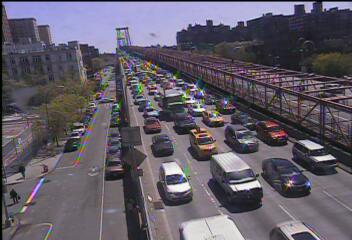neg: (186, 58, 229, 115), (147, 120, 179, 162), (244, 176, 276, 218), (108, 156, 139, 198), (282, 50, 309, 87), (30, 159, 57, 194), (44, 82, 70, 117), (106, 54, 129, 85), (287, 110, 309, 139), (81, 16, 102, 44), (75, 188, 96, 215), (71, 134, 91, 162), (35, 27, 55, 54), (177, 20, 191, 39)
pos: (7, 184, 25, 209), (12, 159, 27, 178)
